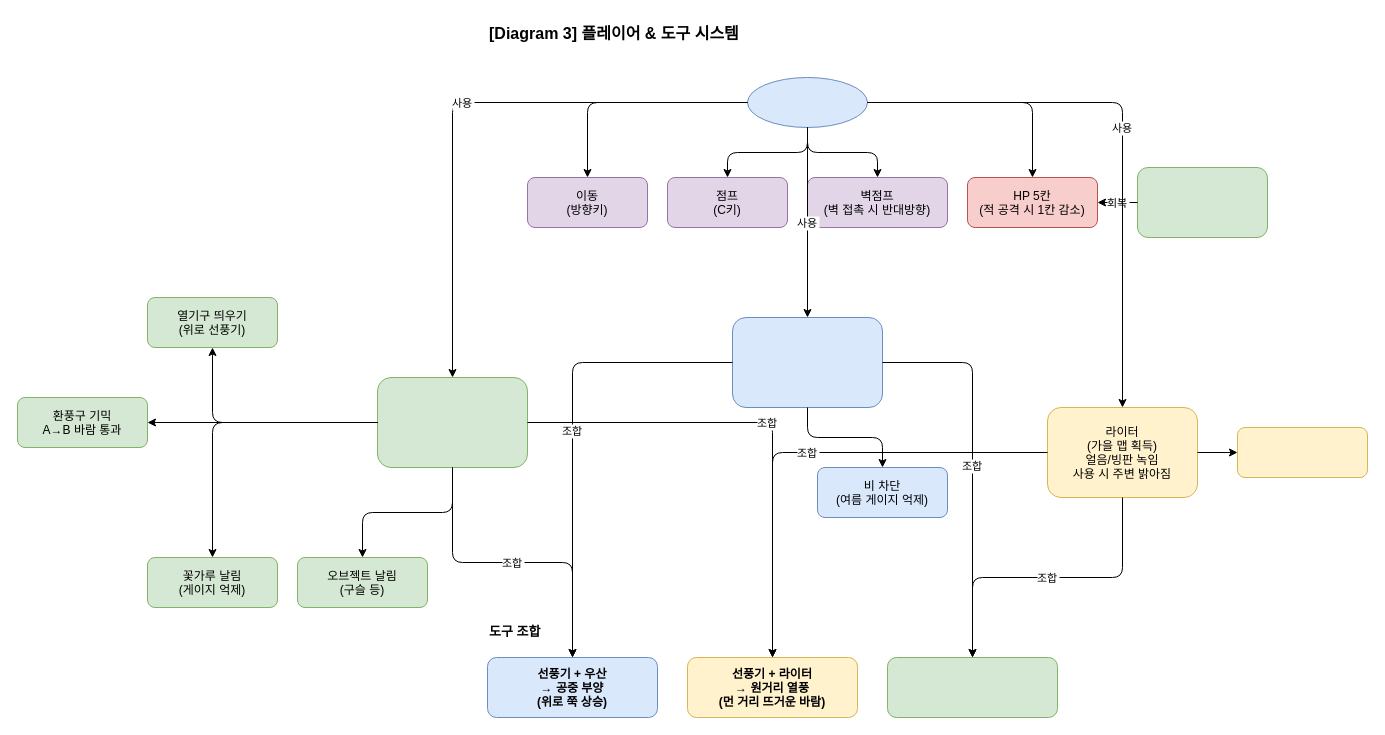
Some shapes in this 1385 by 735 pixel diagram are drawn without their labels. The shapes that lost their labels are listed below. From the top down, each one's centre as x and y in pixels, then its label:
the point at 807,102: Player
the point at 1202,202: 음료수 (체력 전부 회복 세이브포인트에서 리필, 1회)
the point at 807,362: 우산 (여름 맵 획득) 비 차단 사용 시 캐릭터 어두워짐
the point at 452,422: 선풍기 (봄 맵 획득) 바라보는 방향으로 바람 ↑키로 위쪽 발사 가능 사용 시 반대로 밀림
the point at 1302,452: 얼음/빙판 녹임 (겨울 지형 변경)
the point at 972,687: 우산 + 라이터 → 활공 (공중에서 천천히 하강)
